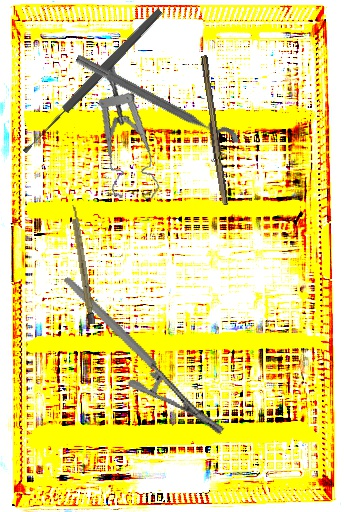Fixation Ring: (68, 49, 242, 161)
Needle Holder: (63, 243, 228, 468)
Scalpel Handle: (196, 55, 231, 206), (69, 204, 96, 325)
Speculum: (78, 62, 182, 205)
Surgical Spoon: (19, 6, 165, 156)
